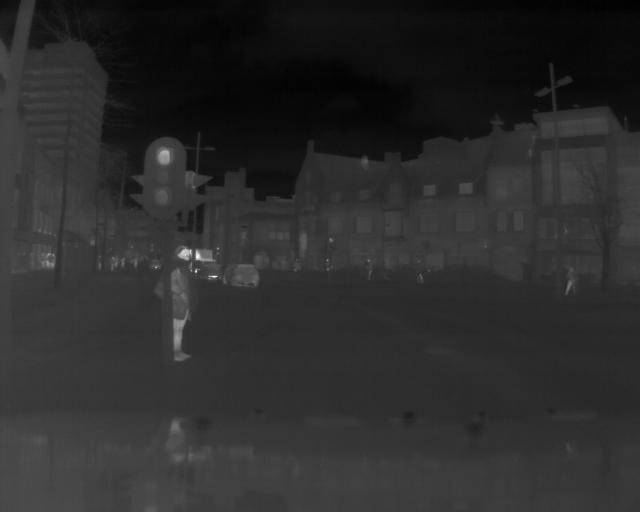car: (222, 259, 261, 289), (198, 257, 221, 286)
person: (157, 246, 195, 365), (565, 263, 580, 297), (411, 257, 427, 287), (360, 257, 376, 280), (110, 252, 122, 275), (321, 257, 332, 276)
